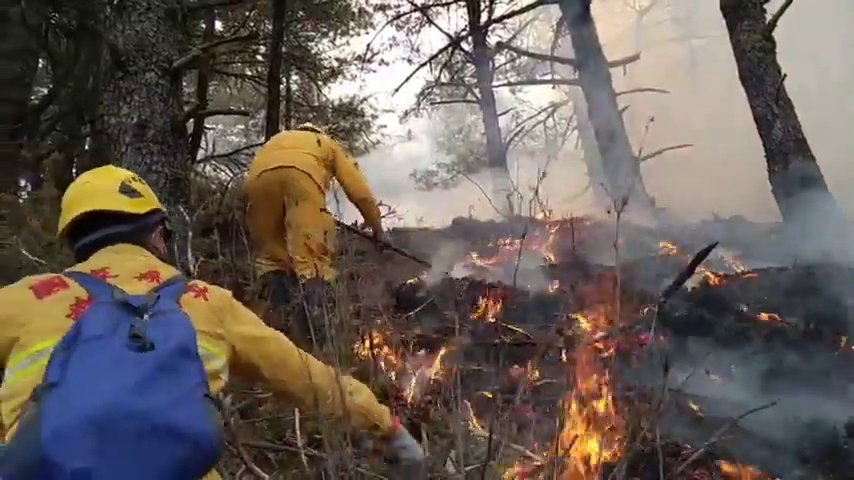fire: (562, 379, 617, 462), (360, 328, 395, 367), (479, 296, 503, 320), (660, 240, 678, 256), (540, 246, 556, 264), (760, 310, 772, 322), (435, 353, 443, 369)
